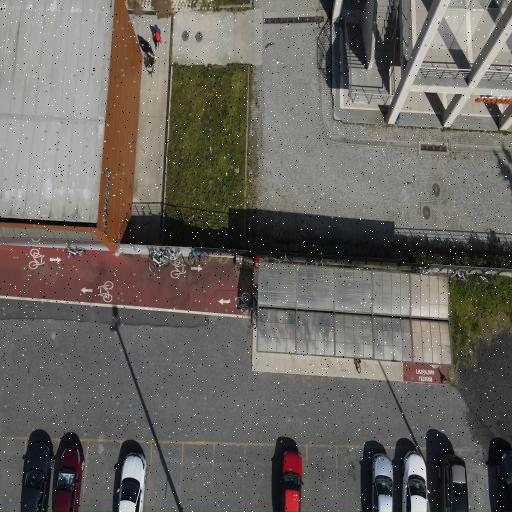car: (21, 443, 52, 511), (53, 446, 84, 511), (437, 455, 467, 511), (117, 453, 145, 511), (401, 452, 427, 511), (281, 450, 302, 511), (371, 454, 392, 511), (496, 451, 511, 510)
person: (139, 38, 152, 54), (152, 25, 160, 50)
